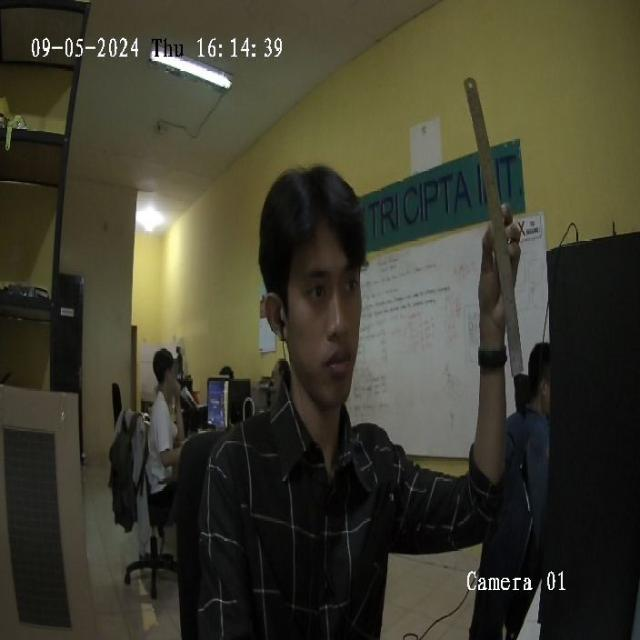Ruler: (464, 78, 522, 378)
